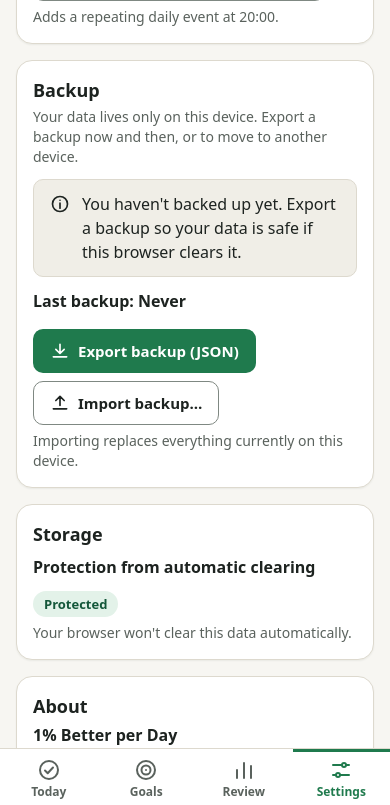
Test: M10-D2: a failed file creation is not a backup › URL.createObjectURL throws → EXPORT_FAILED alert, "Last backup: Never" stays, the never-backed-up banner stays, kv untouched
(page scrolled)
Expected: the text "Last backup: Never" is shown, left=33, top=290, right=186, bottom=312
Click the button "Export backup (JSON)".
click(144, 351)  # box left=33, top=329, right=256, bottom=373
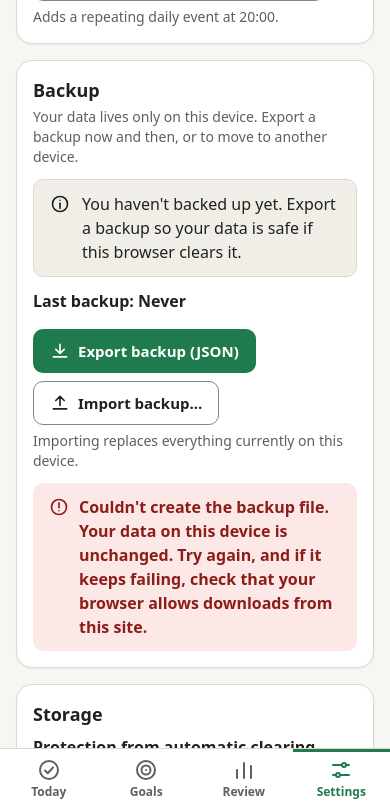
Expected: the text with test id "last-backup" reads "Last backup: Never", left=33, top=290, right=186, bottom=312
Result: the message shows "Couldn't create the backup file. Your data on this device is unchanged. Try again, and if it keeps failing, check that your browser allows downloads from this s" at left=79, top=496, right=332, bottom=638
